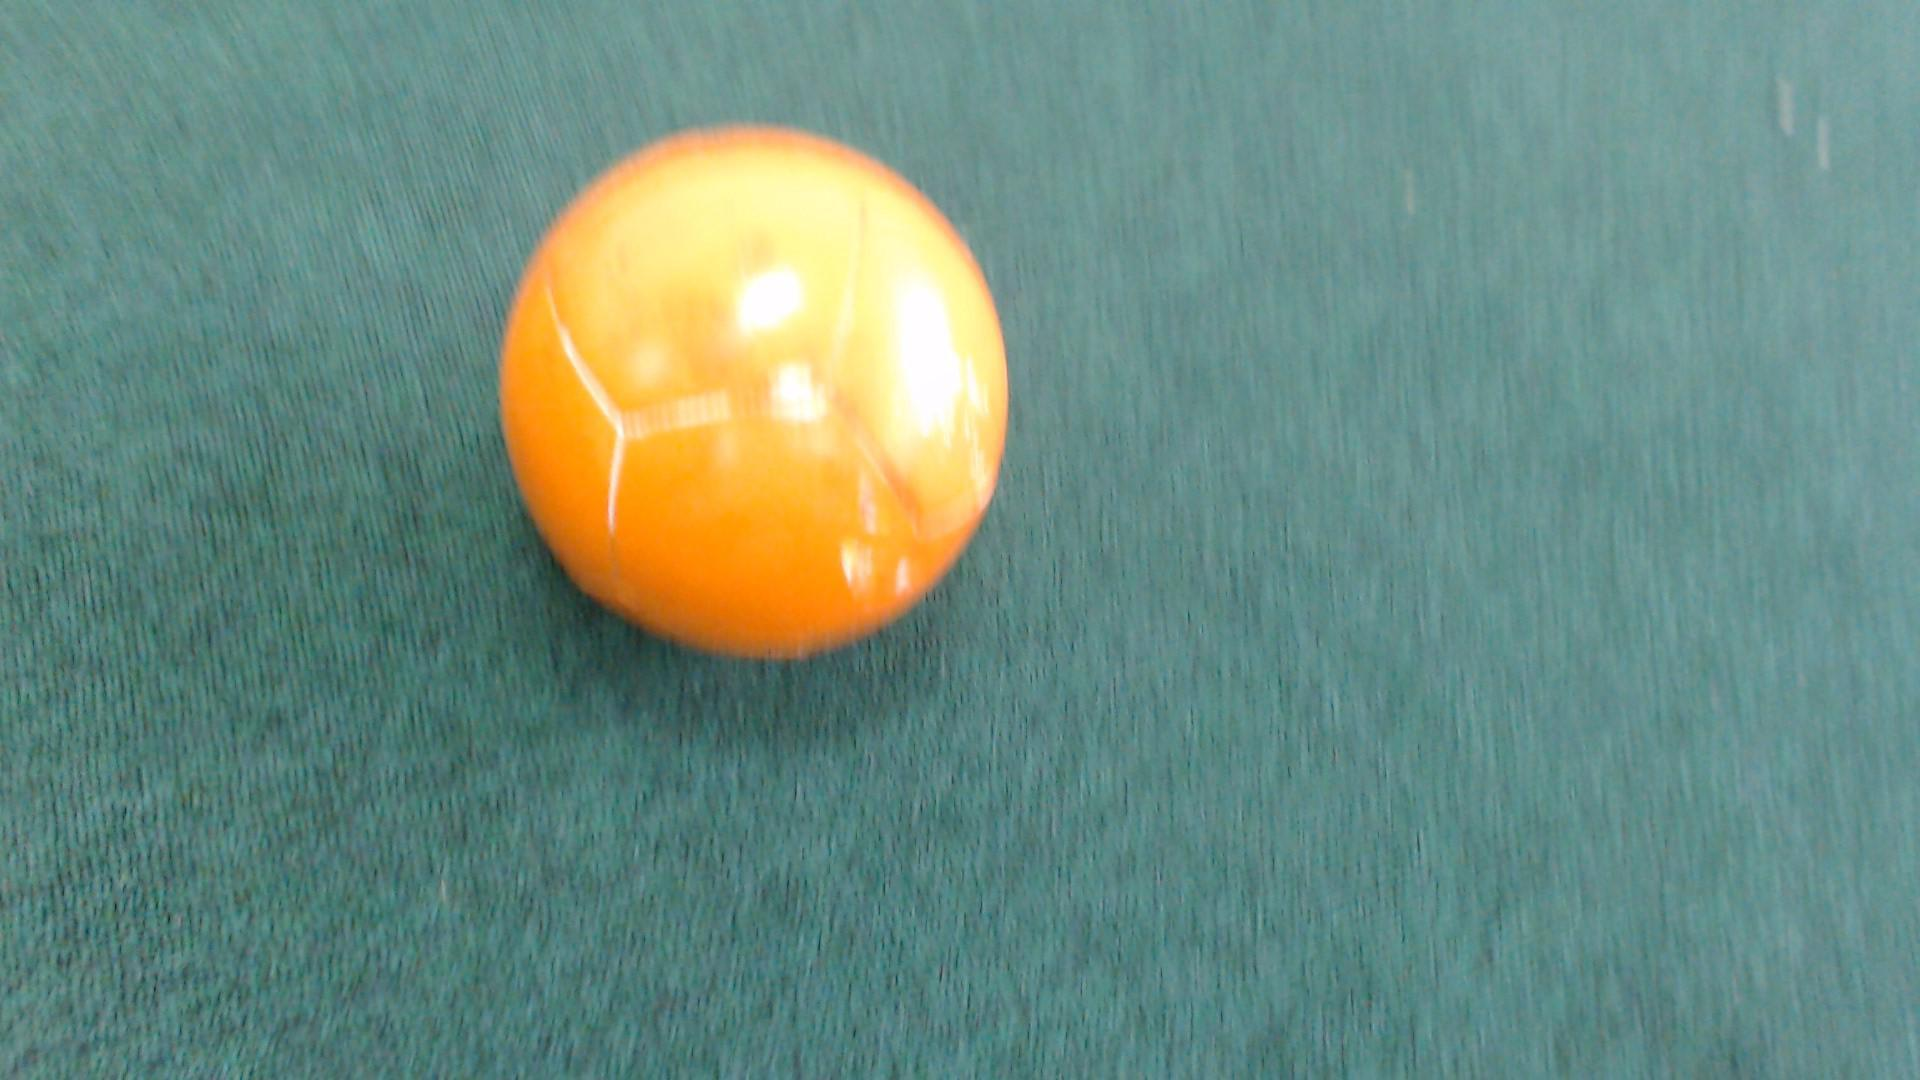bola: (462, 119, 1063, 673)
